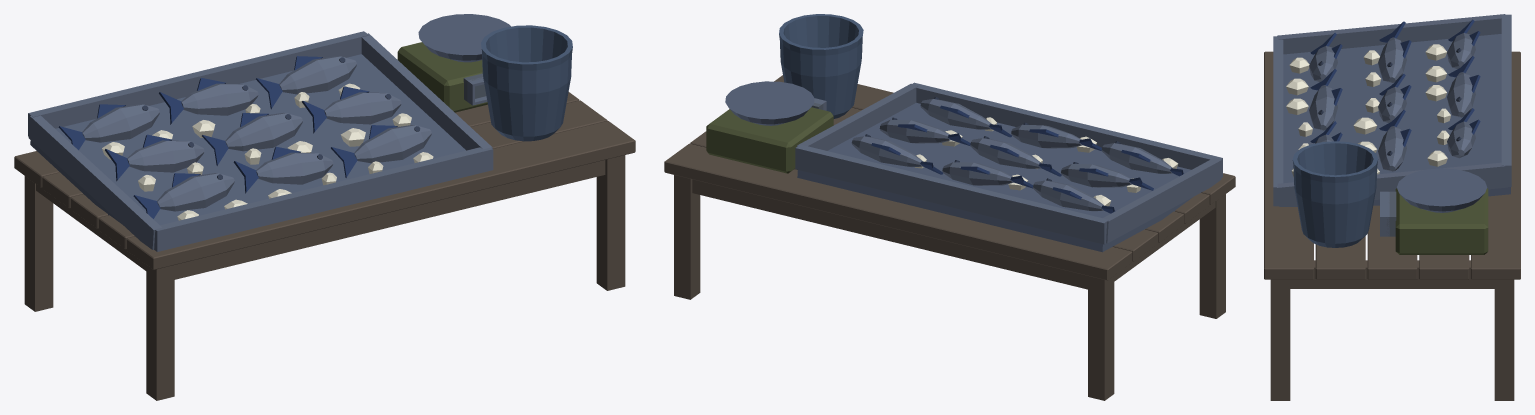
File: bw_targ_fish_table.glb
3 views of the same model, side by side, from view 1: azimuth 30°, elevation 25°; view 2: azimuth 150°, elevation 25°; view 3: azimuth 270°, elevation 25° (orthographic). The views are drawn at different scales.
Parts seen in each view (by area): view 1: apron.003, apron.001, apron.002, apron, apron.005, apron.006, apron.007; view 2: apron.001, apron.003, apron.002, apron, apron.007, apron.005, apron.006; view 3: apron.001, apron.002, apron.003, apron, apron.007, apron.006, apron.005, apron.008.
Part boxes in pixels (x1,y1,x2,y2): apron.003: [28, 31, 493, 251]; apron.001: [14, 92, 635, 400]; apron.002: [30, 14, 510, 225]; apron: [481, 25, 572, 141]; apron.005: [58, 56, 397, 218]; apron.006: [102, 83, 433, 220]; apron.007: [397, 42, 487, 112]; apron.001: [664, 75, 1235, 400]; apron.003: [795, 82, 1222, 244]; apron.002: [725, 81, 1192, 252]; apron: [779, 14, 863, 118]; apron.007: [706, 107, 833, 173]; apron.005: [871, 105, 1183, 213]; apron.006: [915, 117, 1178, 206]; apron.001: [1264, 51, 1520, 400]; apron.002: [1283, 34, 1510, 212]; apron.003: [1273, 14, 1511, 236]; apron: [1292, 141, 1378, 247]; apron.007: [1395, 188, 1488, 254]; apron.006: [1286, 44, 1450, 177]; apron.005: [1310, 19, 1480, 146]; apron.008: [1386, 191, 1396, 236].
Bounding box in the file's own units: 2.4 × 1.1 × 1.2.
